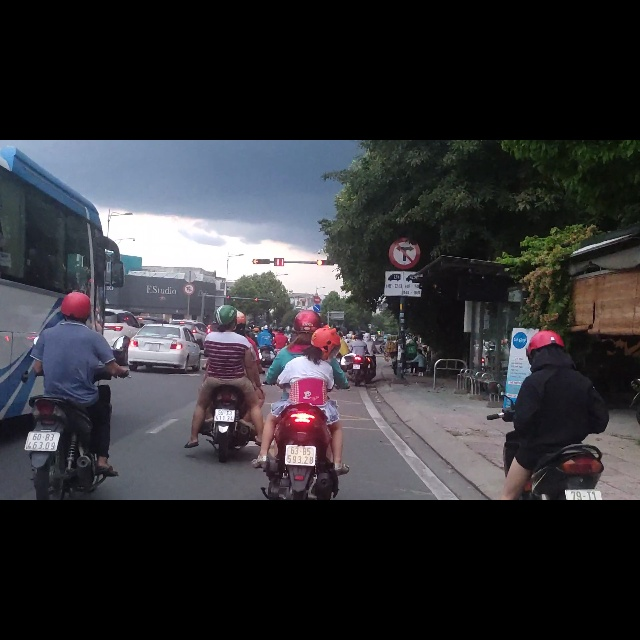bien_hieu_lenh: (388, 171, 421, 231), (183, 254, 195, 277), (313, 277, 321, 292), (313, 292, 321, 306)
